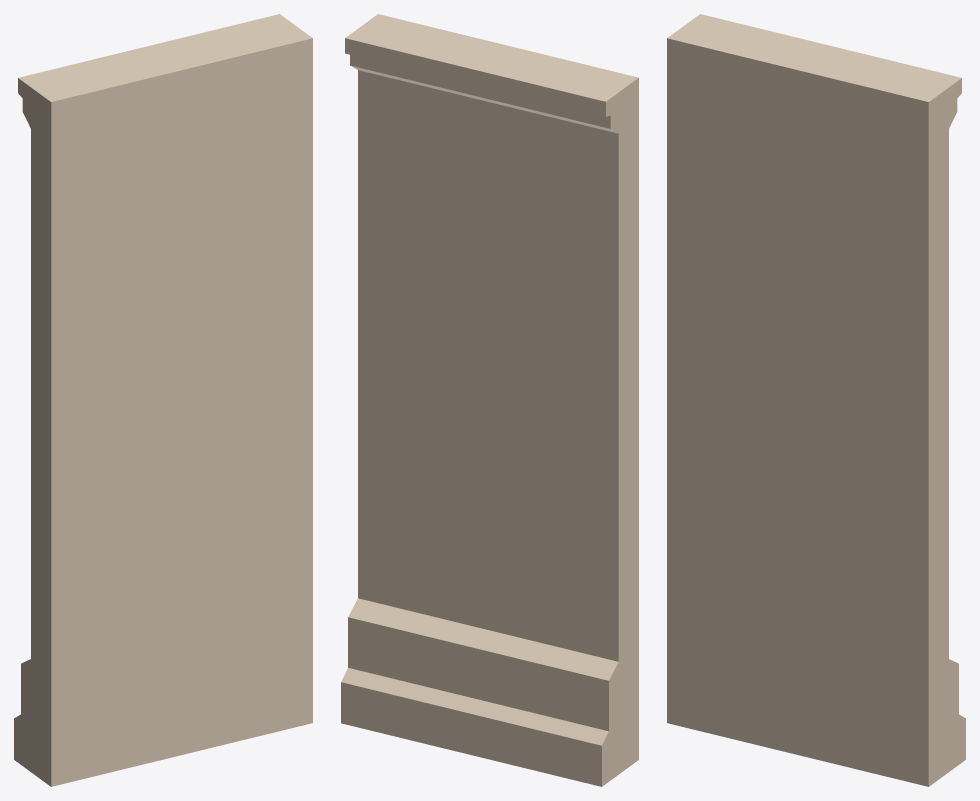
File: BC_Wall_B.fbx
3 renders of one model, left to right at view 1: azimuth 30°, elevation 25°; view 2: azimuth 150°, elevation 25°; view 3: azimuth 330°, elevation 25°, orthographic.
Parts seen in each view (by area): view 1: BC_Wall_B; view 2: BC_Wall_B; view 3: BC_Wall_B.
Part boxes in pixels (left/top/right/bottom): BC_Wall_B: left=14, top=14, right=312, bottom=786; BC_Wall_B: left=341, top=14, right=638, bottom=786; BC_Wall_B: left=667, top=14, right=965, bottom=786.
Size of the model in its own units: 400 by 1000 by 98.27.
